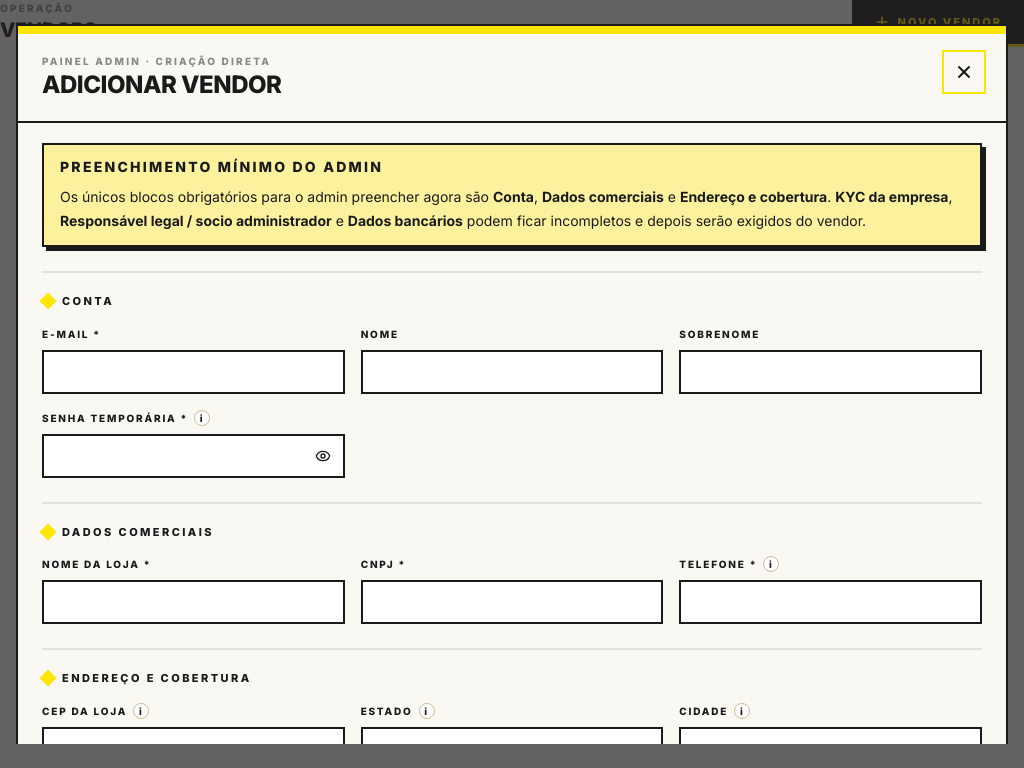
Test: VendorCreateLauncher — gate do botão › avança a pendência conforme os campos são preenchidos
Step 1. Type "vendor@teste.com" into the field labelled "E-mail *" → {"x": 193, "y": 372}, box 42,350 -> 345,394
(page scrolled)
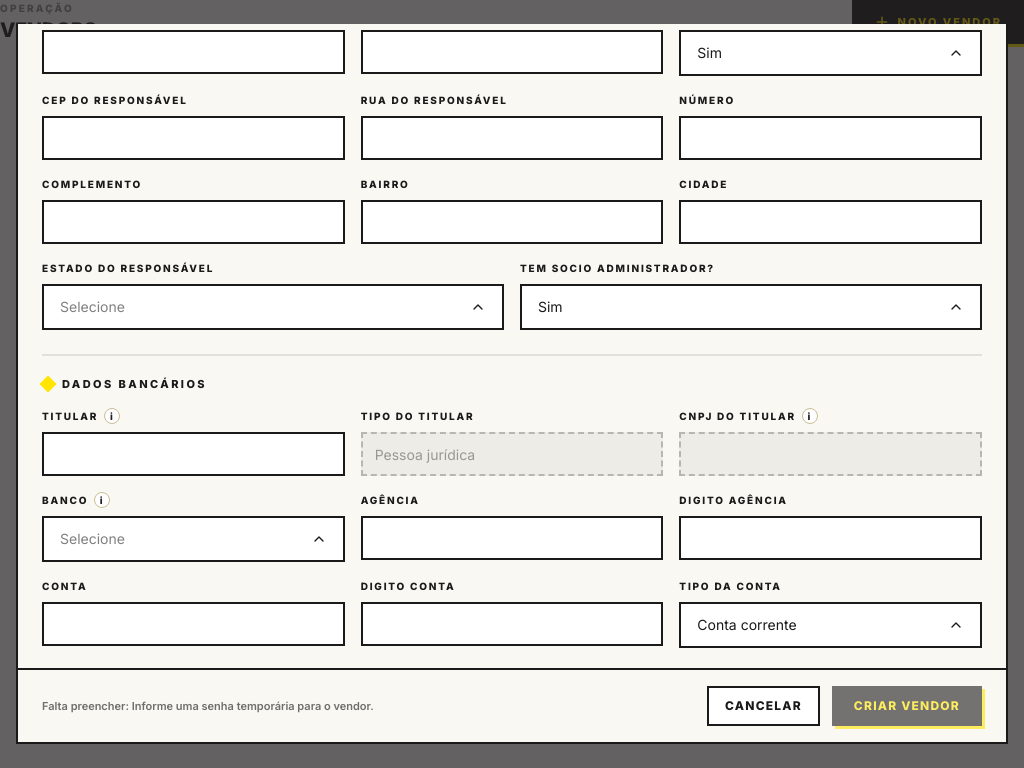
Expected: the text "Falta preencher: Informe uma senha temporária para o vendor." is shown, 42,698 -> 374,714
Expected: the button "Criar vendor" is disabled, 832,686 -> 982,726
